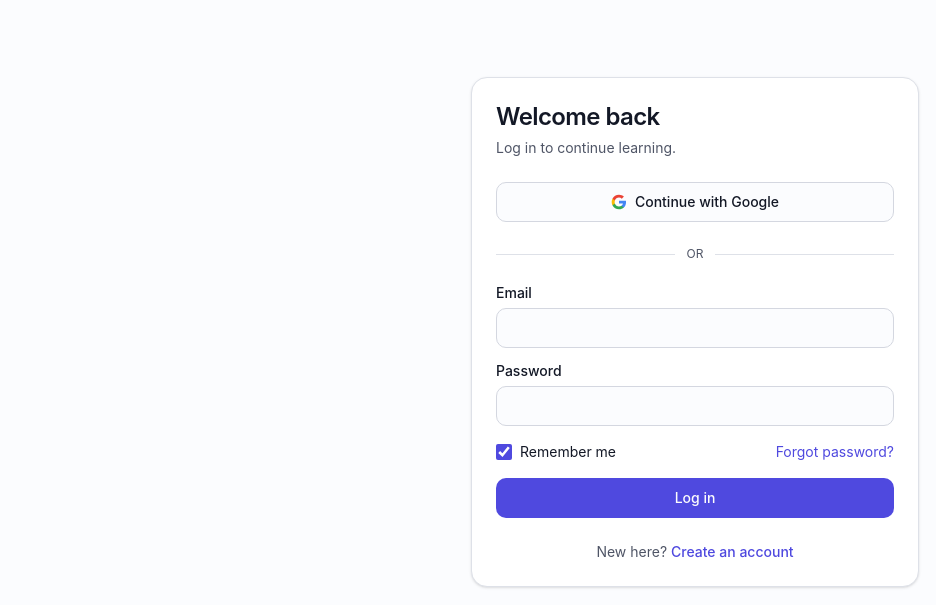
Test: LoginPage › redirects ["instructor"] to the right dashboard
The width and height of the screenshot is (936, 605).
Type "x@example.com" into the field labelled "Email" at [695, 328], box [496,308,894,348]
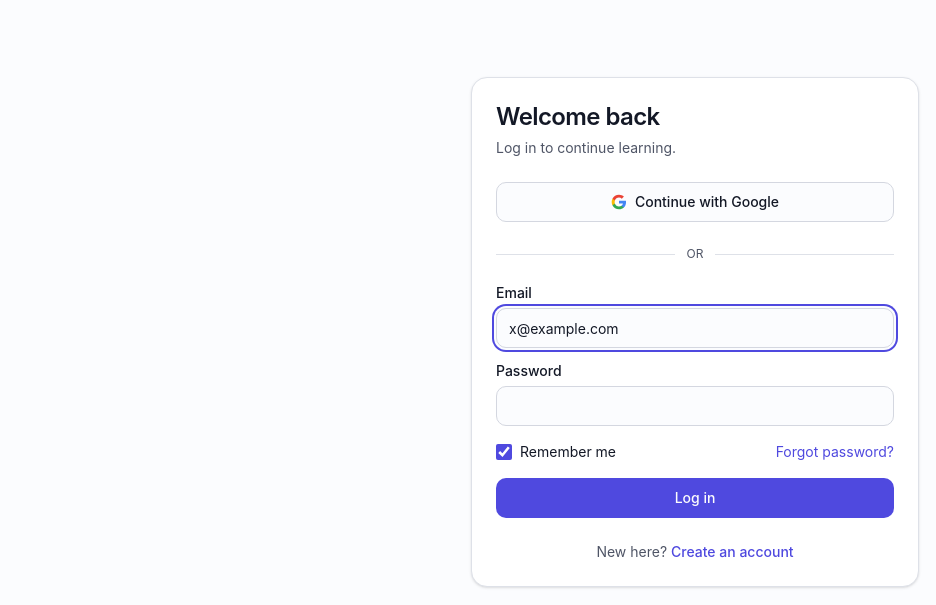
Type "password1" into the password field labelled "Password" at [695, 406], box [496,386,894,426]
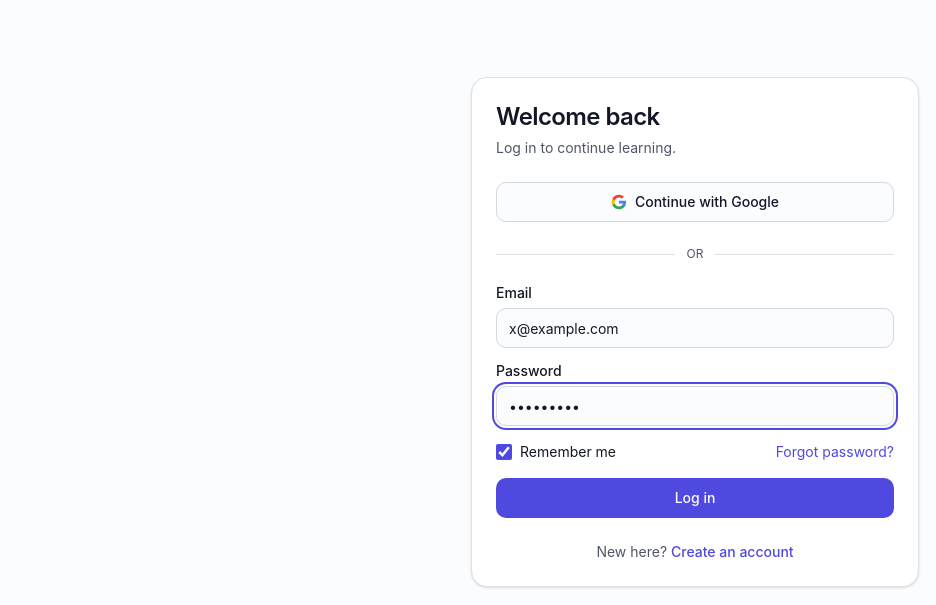
Click the button "Log in" at [695, 498], box [496,478,894,518]
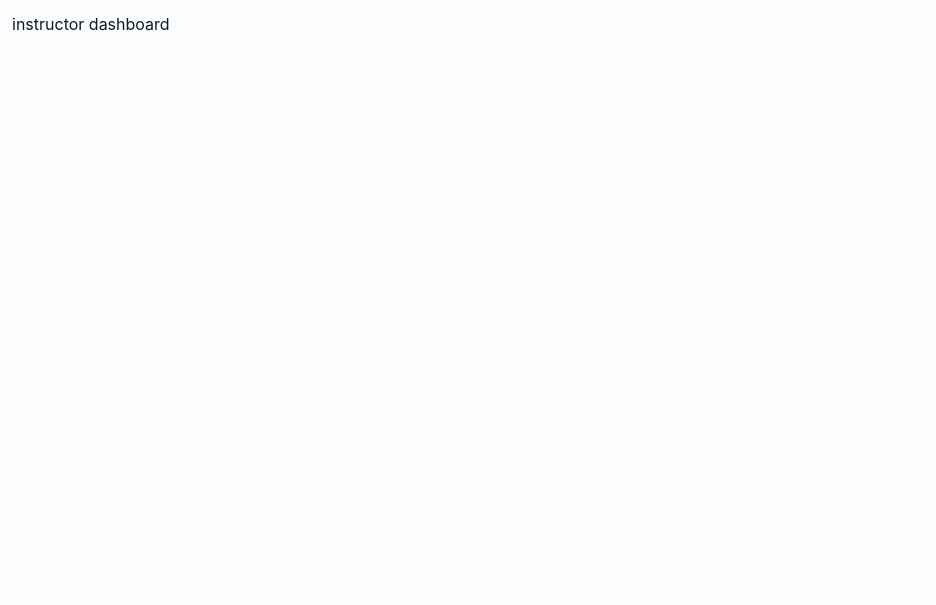
Expected: the text "instructor dashboard" is shown, [12,14,170,34]
